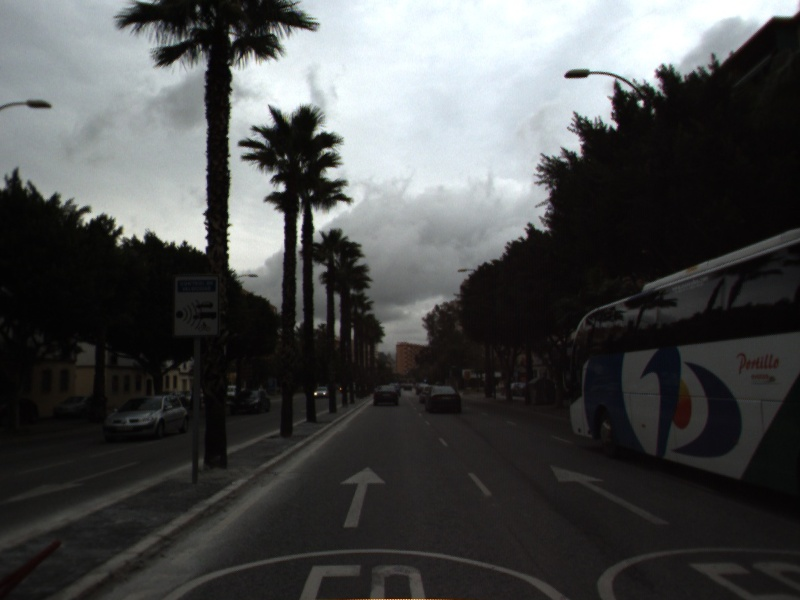STRAIGHT: (548, 463, 672, 527), (338, 464, 388, 530)
